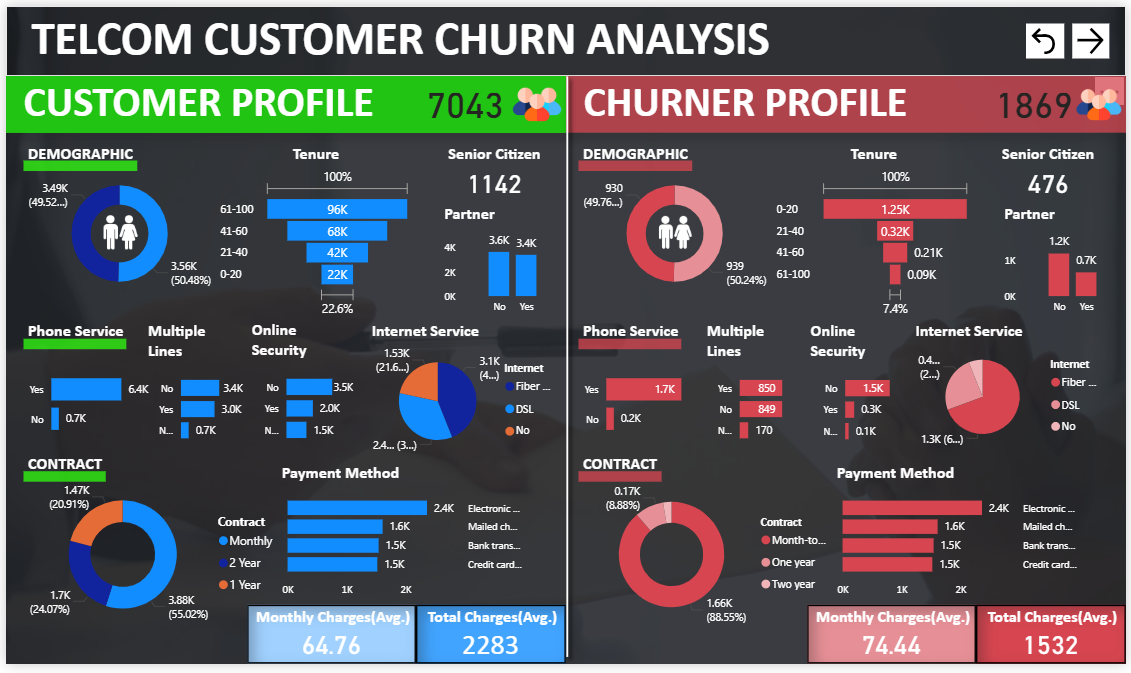

The page's visual inventory and layout, read from the dashboard file:
{"tool":"powerbi","page":{"name":"Report","canvas":[1280,753],"ordinal":1},"visuals":[{"type":"image","box":[741.4,234.3,47.1,48.6],"z":0},{"type":"image","box":[103.8,233.8,53.8,48.8],"z":1000},{"type":"textbox","box":[0,0,1280,80],"z":2000},{"type":"textbox","title":"CUSTOMER PROFILE","box":[0,80,640,65],"z":3000},{"type":"textbox","title":"CHURNER PROFILE","box":[640,80,640,65],"z":4000},{"type":"image","box":[572.5,80,67.5,65],"z":5000},{"type":"image","box":[1218.8,80,61.2,65],"z":6000},{"type":"card","fields":{"Values":["Blank.Customer Total"]},"box":[468.8,92.5,112.5,52.5],"z":7000},{"type":"card","fields":{"Values":["Blank.Churned Customers"]},"box":[1118.8,92.5,112.5,52.5],"z":8000},{"type":"actionButton","box":[1165,20,43.8,40],"z":9000},{"type":"actionButton","box":[1218.8,20,42.5,40],"z":10000},{"type":"donutChart","title":"DEMOGRAPHIC","fields":{"Category":["Telco-Customer-Churn-Analysis.gender"],"Y":["CountNonNull(Telco-Customer-Churn-Analysis.customerID)"]},"box":[20,157.5,220,183.8],"z":11000},{"type":"shape","box":[20,166.2,130,33.8],"z":12000},{"type":"funnel","title":"Tenure","fields":{"Y":["Sum(Customers.tenure)"],"Category":["Customers.Tenure Bins"]},"box":[240,157.5,228.8,202.5],"z":13000},{"type":"card","title":"Senior Citizen","fields":{"Values":["Sum(Customers.SeniorCitizen)"]},"box":[486.2,157.5,145,67.5],"z":14000},{"type":"columnChart","title":"Partner","fields":{"Category":["Customers.Partner"],"Y":["CountNonNull(Customers.Partner)"]},"box":[495,225,145,135],"z":15000},{"type":"barChart","title":"Phone Service","fields":{"Category":["Customers.PhoneService"],"Y":["CountNonNull(Customers.PhoneService)"]},"box":[20,360,150,161.2],"z":16000},{"type":"shape","box":[20,370,117.5,32.5],"z":17000},{"type":"pieChart","title":"Internet Service","fields":{"Category":["Customers.InternetService"],"Y":["CountNonNull(Customers.InternetService)"]},"box":[412.5,360,227.5,161.2],"z":18000},{"type":"shape","box":[20,521.2,94,32.5],"z":19000},{"type":"barChart","title":"Payment Method","fields":{"Category":["Customers.PaymentMethod"],"Y":["CountNonNull(Customers.PaymentMethod)"]},"box":[310,521.2,296.2,162.5],"z":20000},{"type":"barChart","title":"Multiple Lines","fields":{"Category":["Customers.MultipleLines"],"Y":["CountNonNull(Customers.MultipleLines)"]},"box":[157.5,360,118.8,150],"z":21000},{"type":"barChart","title":"Online Security","fields":{"Category":["Customers.OnlineSecurity"],"Y":["CountNonNull(Customers.OnlineSecurity)"]},"box":[276.2,358.8,126.2,151.2],"z":22000},{"type":"donutChart","title":"DEMOGRAPHIC","fields":{"Y":["CountNonNull(Churned.customerID)"],"Category":["Churned.gender"]},"box":[655,157.5,220,183.8],"z":23000},{"type":"shape","box":[655,166.2,130,33.8],"z":24000},{"type":"funnel","title":"Tenure","fields":{"Category":["Churned.Tenure Bins"],"Y":["CountNonNull(Churned.Tenure Bins)"]},"box":[875,157.5,232.5,202.5],"z":25000},{"type":"card","title":"Senior Citizen","fields":{"Values":["Sum(Churned.SeniorCitizen)"]},"box":[1118.8,157.5,145,67.5],"z":26000},{"type":"columnChart","title":"Partner","fields":{"Category":["Churned.Partner"],"Y":["CountNonNull(Churned.Partner)"]},"box":[1135,225,145,135],"z":27000},{"type":"barChart","title":"Phone Service","fields":{"Category":["Churned.PhoneService"],"Y":["CountNonNull(Churned.PhoneService)"]},"box":[655,360,150,161.2],"z":28000},{"type":"barChart","title":"Multiple Lines","fields":{"Category":["Churned.MultipleLines"],"Y":["CountNonNull(Churned.MultipleLines)"]},"box":[795,360,118.8,150],"z":29000},{"type":"barChart","title":"Online Security","fields":{"Category":["Churned.OnlineSecurity"],"Y":["CountNonNull(Churned.OnlineSecurity)"]},"box":[913.8,360,126.2,151.2],"z":30000},{"type":"pieChart","title":"Internet Service","fields":{"Category":["Churned.InternetService"],"Y":["CountNonNull(Churned.InternetService)"]},"box":[1034.3,360,230,151.4],"z":31000},{"type":"shape","box":[655,370,117.5,32.5],"z":32000},{"type":"donutChart","title":"CONTRACT","fields":{"Category":["Churned.Contract"],"Y":["CountNonNull(Churned.Contract)"]},"box":[655,511.2,300,208.8],"z":33000},{"type":"donutChart","title":"CONTRACT","fields":{"Category":["Customers.Contract"],"Y":["CountNonNull(Customers.Contract)"]},"box":[20,511.2,300,208.8],"z":34000},{"type":"shape","box":[655,521.2,95,32.5],"z":35000},{"type":"barChart","title":"Payment Method","fields":{"Category":["Customers.PaymentMethod"],"Y":["CountNonNull(Customers.PaymentMethod)"]},"box":[943.8,521.2,296.2,162.5],"z":36000},{"type":"card","title":"Monthly Charges(Avg.)","fields":{"Values":["Avg(Customers.MonthlyCharges)"]},"box":[275.7,684.3,192.9,67.1],"z":37000},{"type":"card","title":"Total Charges(Avg.)","fields":{"Values":["Avg(Customers.TotalCharges)"]},"box":[468.6,684.3,171.4,67.1],"z":38000},{"type":"card","title":"Monthly Charges(Avg.)","fields":{"Values":["Avg(Churned.MonthlyCharges)"]},"box":[915.7,684.3,192.9,67.1],"z":39000},{"type":"card","title":"Total Charges(Avg.)","fields":{"Values":["Avg(Churned.TotalCharges)"]},"box":[1108.6,684.3,171.4,67.1],"z":40000},{"type":"shape","box":[627.1,71.4,28.6,681.4],"z":41000}]}

Visuals, with their boxes in screenshot pixels (x1, y1, x2, y2), scaled from the page's 1280x753 canvas onto the 1131x673 screenshot:
image: <box>655,209,697,253</box>
image: <box>92,209,139,253</box>
textbox: <box>0,0,1130,72</box>
"CUSTOMER PROFILE" textbox: <box>0,72,566,130</box>
"CHURNER PROFILE" textbox: <box>566,72,1130,130</box>
image: <box>506,72,566,130</box>
image: <box>1077,72,1130,130</box>
card - Blank.Customer Total: <box>414,83,514,130</box>
card - Blank.Churned Customers: <box>989,83,1088,130</box>
actionButton: <box>1029,18,1068,54</box>
actionButton: <box>1077,18,1114,54</box>
"DEMOGRAPHIC" donutChart: <box>18,141,212,305</box>
shape: <box>18,149,133,179</box>
"Tenure" funnel: <box>212,141,414,322</box>
"Senior Citizen" card: <box>430,141,558,201</box>
"Partner" columnChart: <box>437,201,566,322</box>
"Phone Service" barChart: <box>18,322,150,466</box>
shape: <box>18,331,121,360</box>
"Internet Service" pieChart: <box>364,322,566,466</box>
shape: <box>18,466,101,495</box>
"Payment Method" barChart: <box>274,466,536,611</box>
"Multiple Lines" barChart: <box>139,322,244,456</box>
"Online Security" barChart: <box>244,321,356,456</box>
"DEMOGRAPHIC" donutChart: <box>579,141,773,305</box>
shape: <box>579,149,694,179</box>
"Tenure" funnel: <box>773,141,979,322</box>
"Senior Citizen" card: <box>989,141,1117,201</box>
"Partner" columnChart: <box>1003,201,1130,322</box>
"Phone Service" barChart: <box>579,322,711,466</box>
"Multiple Lines" barChart: <box>702,322,807,456</box>
"Online Security" barChart: <box>807,322,919,457</box>
"Internet Service" pieChart: <box>914,322,1117,457</box>
shape: <box>579,331,683,360</box>
"CONTRACT" donutChart: <box>579,457,844,644</box>
"CONTRACT" donutChart: <box>18,457,283,644</box>
shape: <box>579,466,663,495</box>
"Payment Method" barChart: <box>834,466,1096,611</box>
"Monthly Charges(Avg.)" card: <box>244,612,414,672</box>
"Total Charges(Avg.)" card: <box>414,612,566,672</box>
"Monthly Charges(Avg.)" card: <box>809,612,980,672</box>
"Total Charges(Avg.)" card: <box>980,612,1130,672</box>
shape: <box>554,64,579,672</box>
